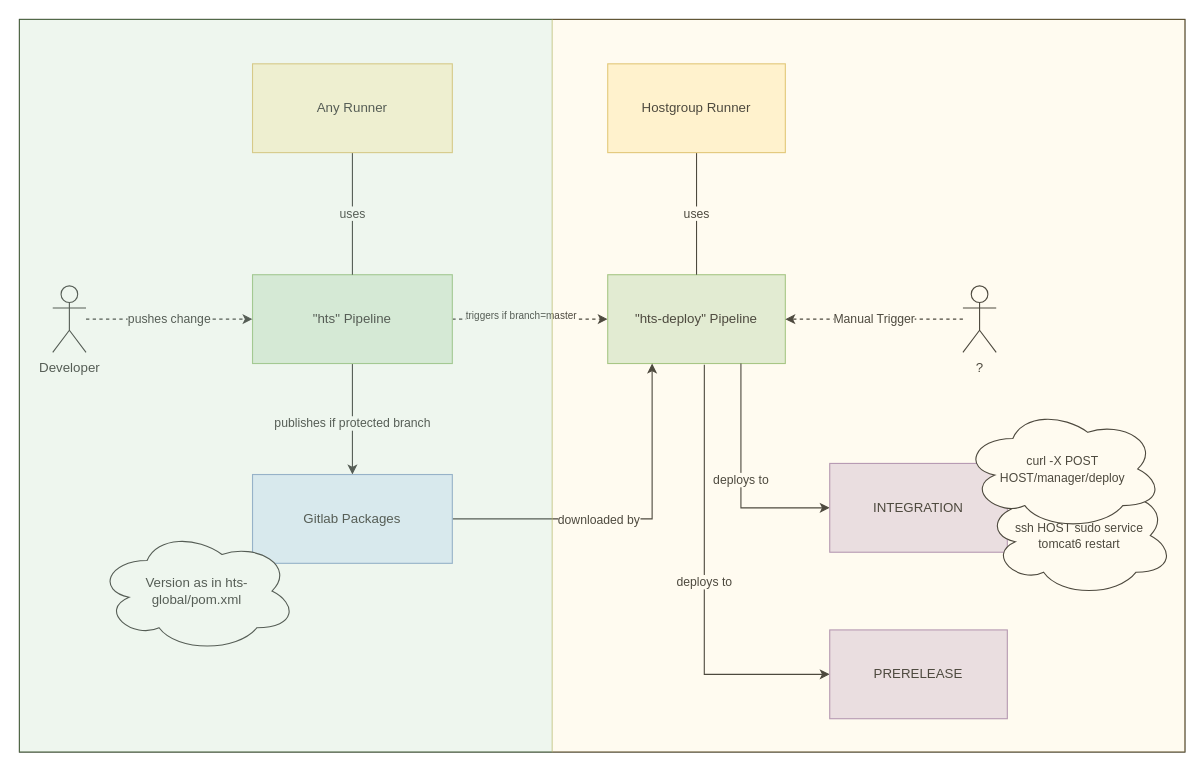
This 1204x771 diagram has some shape labels left out. The centre of each missing label's shape, as x and y in pixels:
Build Pipeline in "hts": point (285, 385)
Deploy Pipeline in "hts-deploy": point (868, 385)
